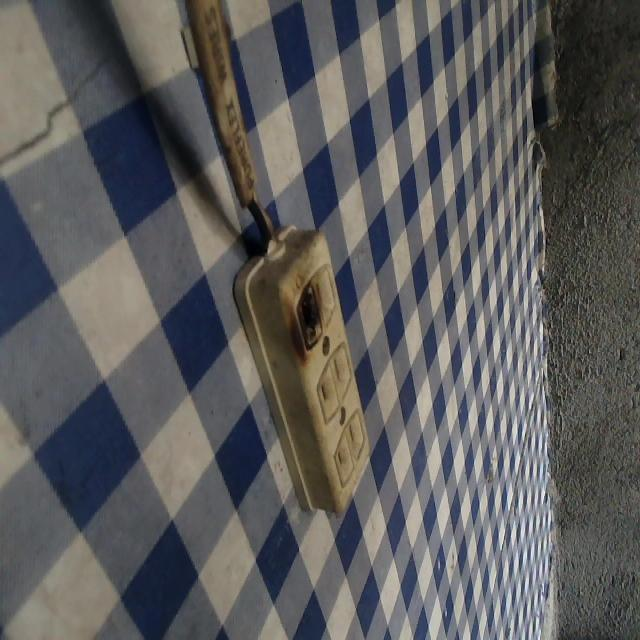-: (285, 274, 330, 354)
